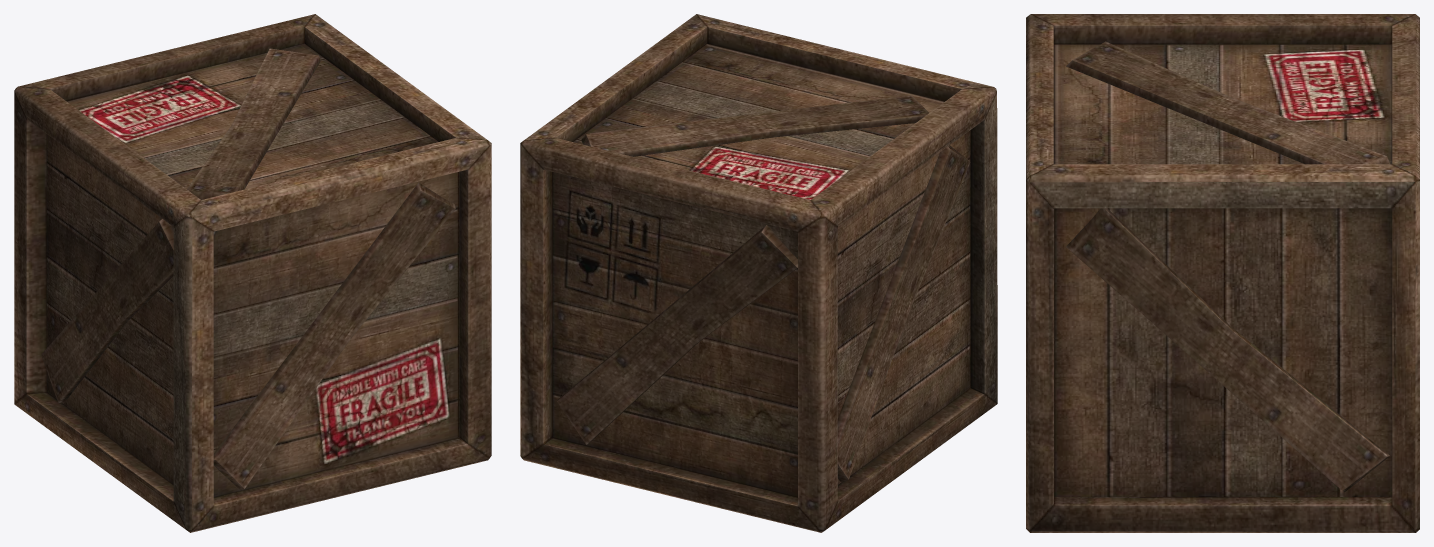
File: p_crate.glb
3 renders of one model, left to right at view 1: azimuth 30°, elevation 25°; view 2: azimuth 150°, elevation 25°; view 3: azimuth 270°, elevation 25°, orthographic. The views are drawn at different scales.
Parts seen in each view (by area): view 1: crate002_Material #51_0; view 2: crate002_Material #51_0; view 3: crate002_Material #51_0.
Boxes of the visible parts, box(x1,y1,x2,y2) form: crate002_Material #51_0: box(14, 14, 491, 532); crate002_Material #51_0: box(520, 14, 997, 532); crate002_Material #51_0: box(1026, 14, 1419, 532).
Bounding box in the file's own units: 60.02 × 60.16 × 60.15.
1 material, 1 textured.
